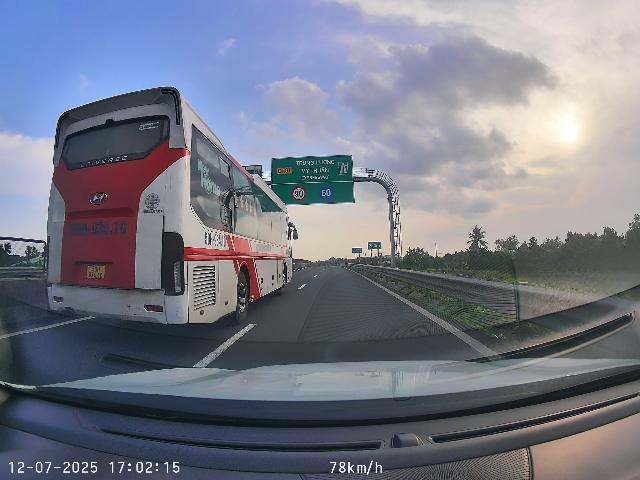127-toc-do-toi-da-90: (291, 186, 307, 201)
306-toc-do-toi-thieu-60: (319, 185, 333, 199)
437-bat-dau-duong-cao-toc: (338, 161, 348, 175)
